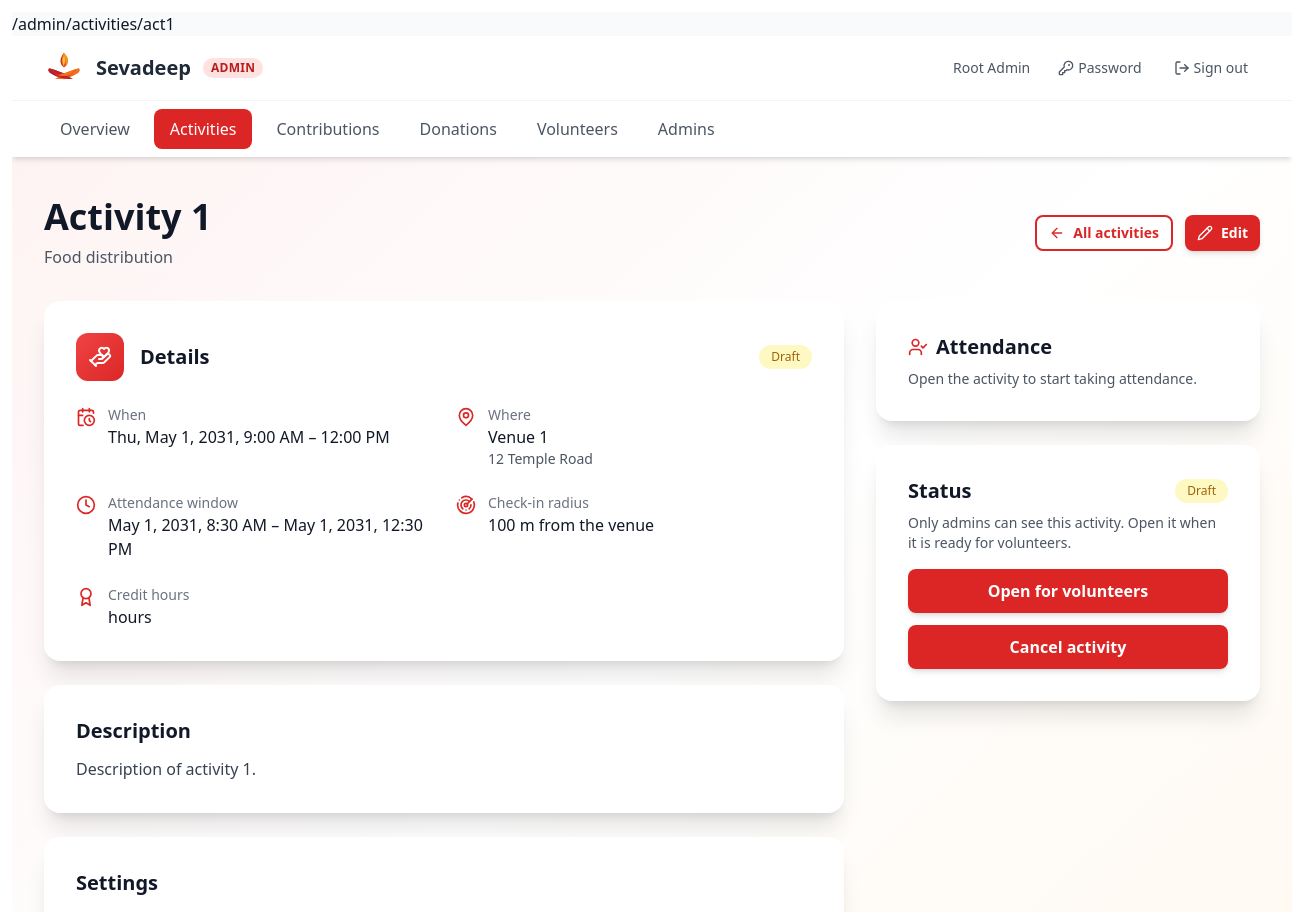
Test: admin Activity detail › opens a draft without a confirmation and shows the new state
Step 1. Click the button "Open for volunteers" → click(1068, 591), box [908,569,1228,613]
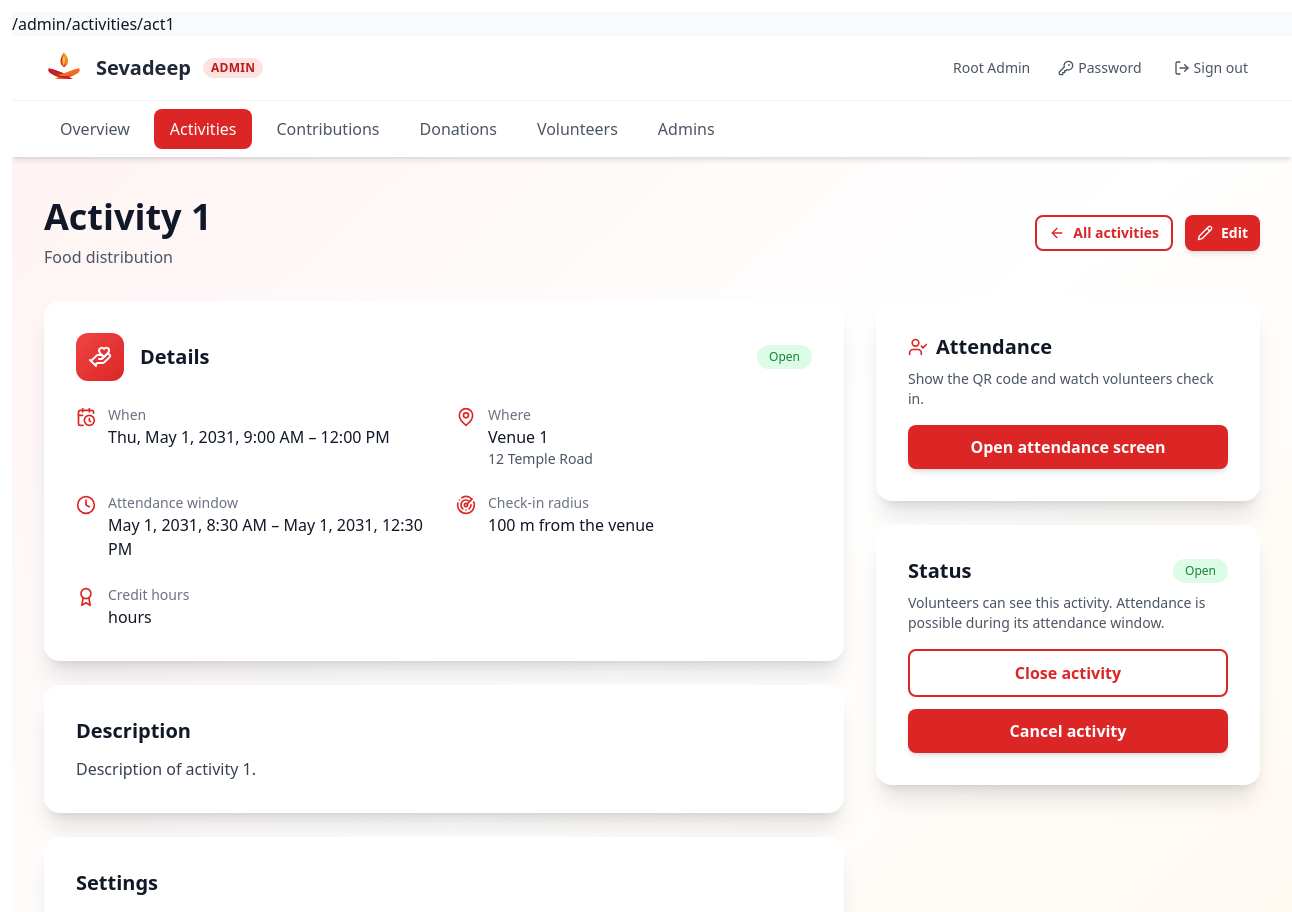
Result: the button "Close activity" is shown at [908,649,1228,697]
Result: the button "Open for volunteers" is gone
